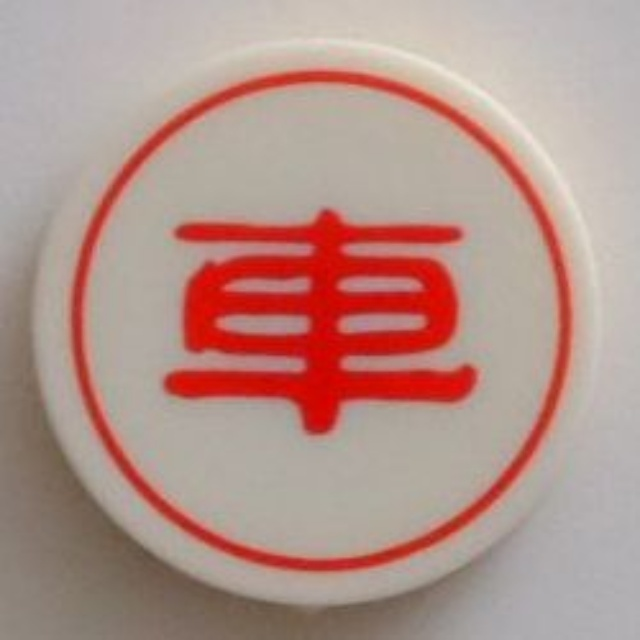red_xe: (25, 28, 611, 613)
